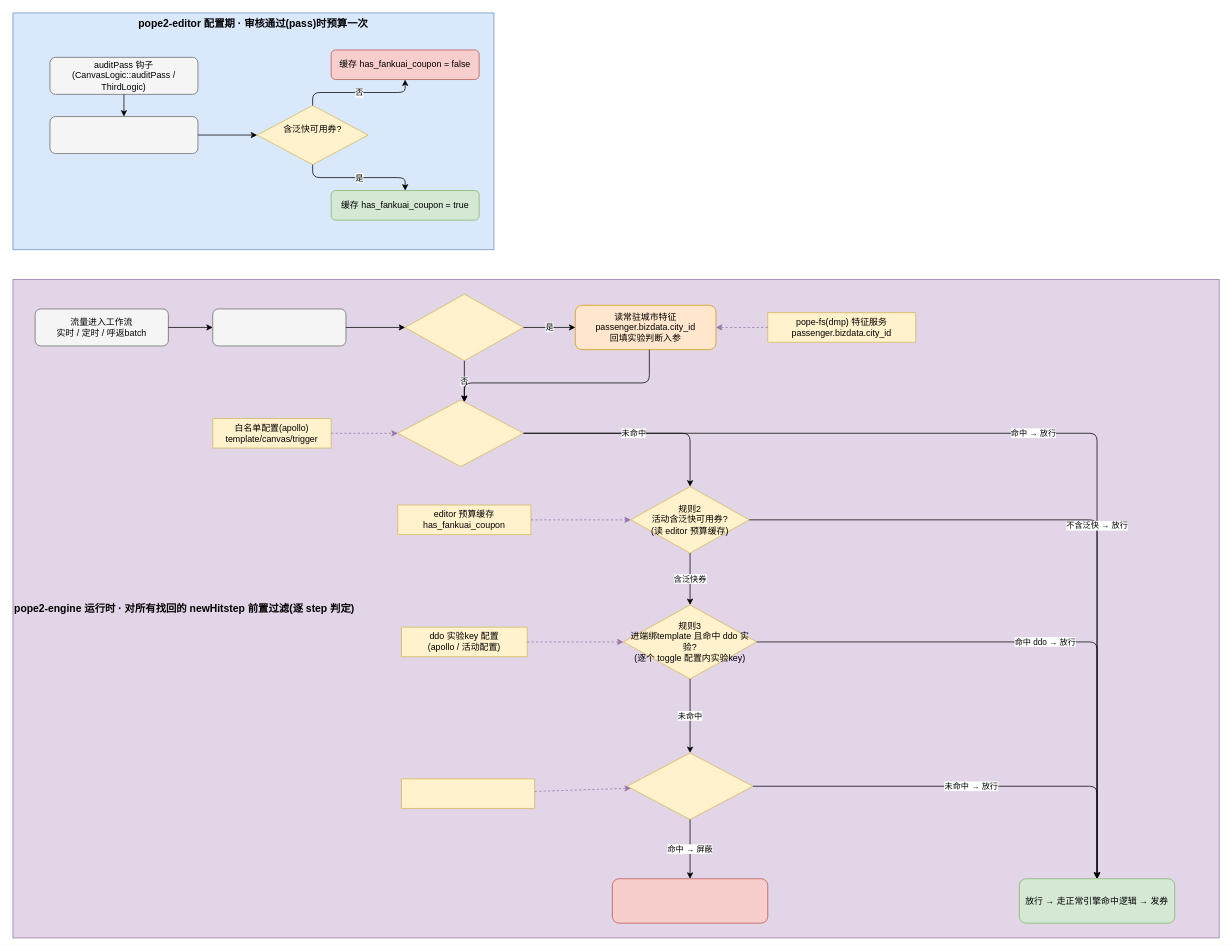
This 1232x951 diagram has some shape labels left out. The shapes that lost their labels are listed below. From the top down, each one's box as (x1, y1, x2, y2) in pixels, then its label:
(49, 116, 198, 154): 遍历活动全部 step.action_info 券批次 batch_id → 回源券系统
(212, 308, 346, 346): 找回 newHitstep (WorkStepPrepare)
(404, 293, 524, 361): 规则0 定时任务流? && event_data.city_id<0 ?
(397, 399, 524, 467): 规则1 命中白名单? (template/canvas_id/trigger)
(401, 778, 535, 808): 呼返联合实验配置(apollo)
(626, 752, 753, 820): 规则4 命中呼返联合实验? (走配置)
(612, 878, 768, 923): 屏蔽该 step，不发券
